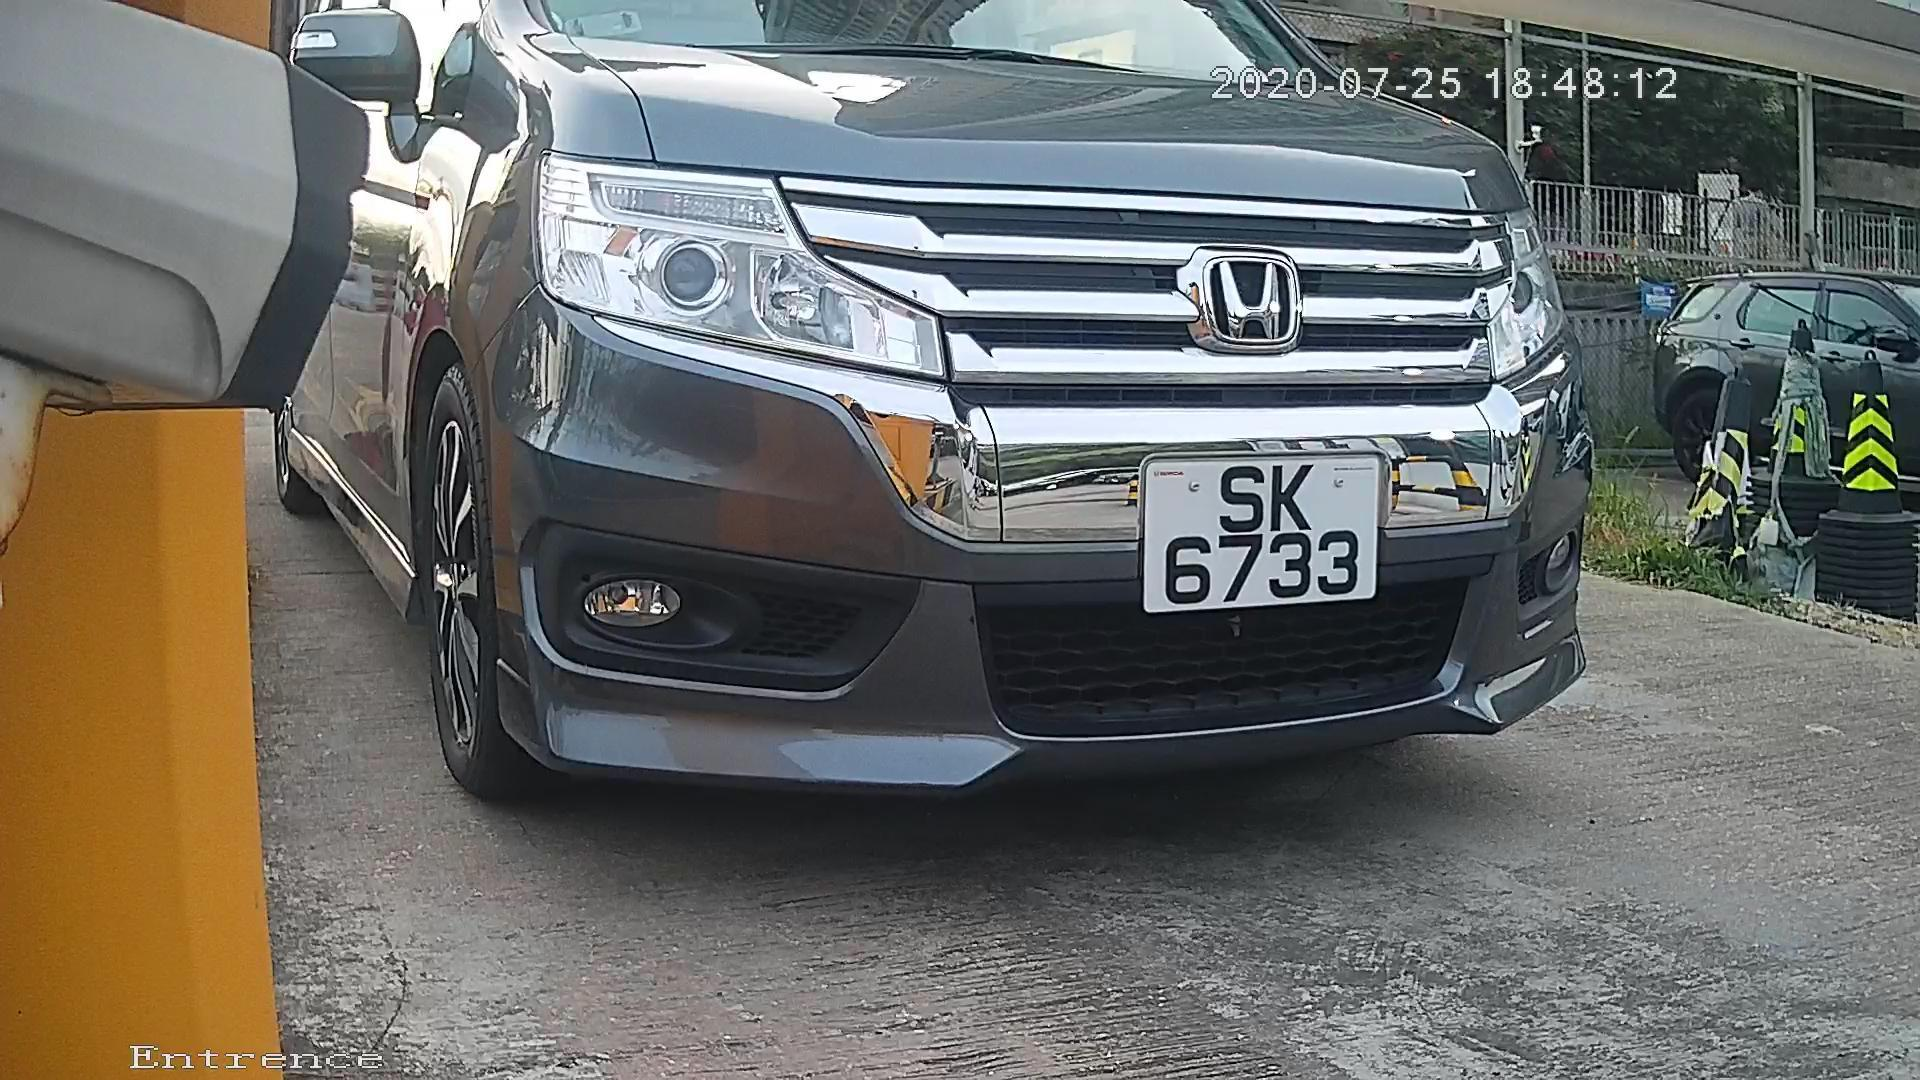privatecar: (241, 1, 1766, 878)
